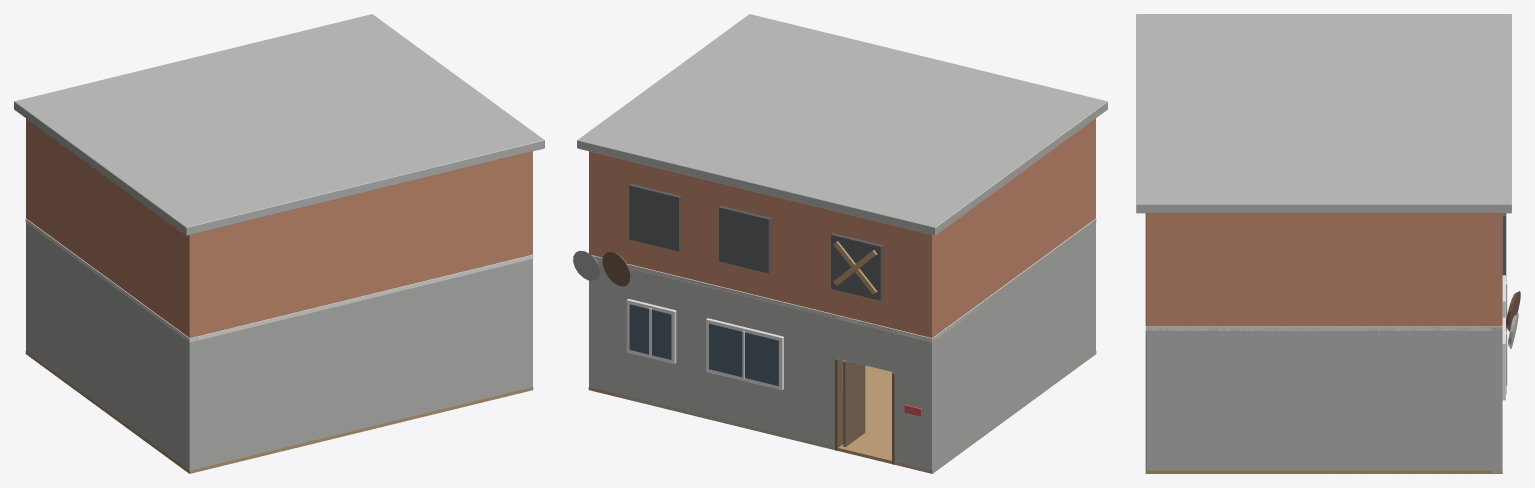
The model's file is Sultanbeyli_HalfBrickHouse.fbx.
3 views of the same model, side by side, from view 1: azimuth 30°, elevation 25°; view 2: azimuth 150°, elevation 25°; view 3: azimuth 270°, elevation 25° (orthographic). The views are drawn at different scales.
Visible parts, largest first — view 1: Sultanbeyli_HalfBrickHouse; view 2: Sultanbeyli_HalfBrickHouse; view 3: Sultanbeyli_HalfBrickHouse.
Part boxes in pixels (x1,y1,x2,y2): Sultanbeyli_HalfBrickHouse: [14, 14, 544, 473]; Sultanbeyli_HalfBrickHouse: [573, 14, 1107, 473]; Sultanbeyli_HalfBrickHouse: [1136, 14, 1520, 473].
Size of the model in its own units: 9.7 by 6.44 by 8.19.
